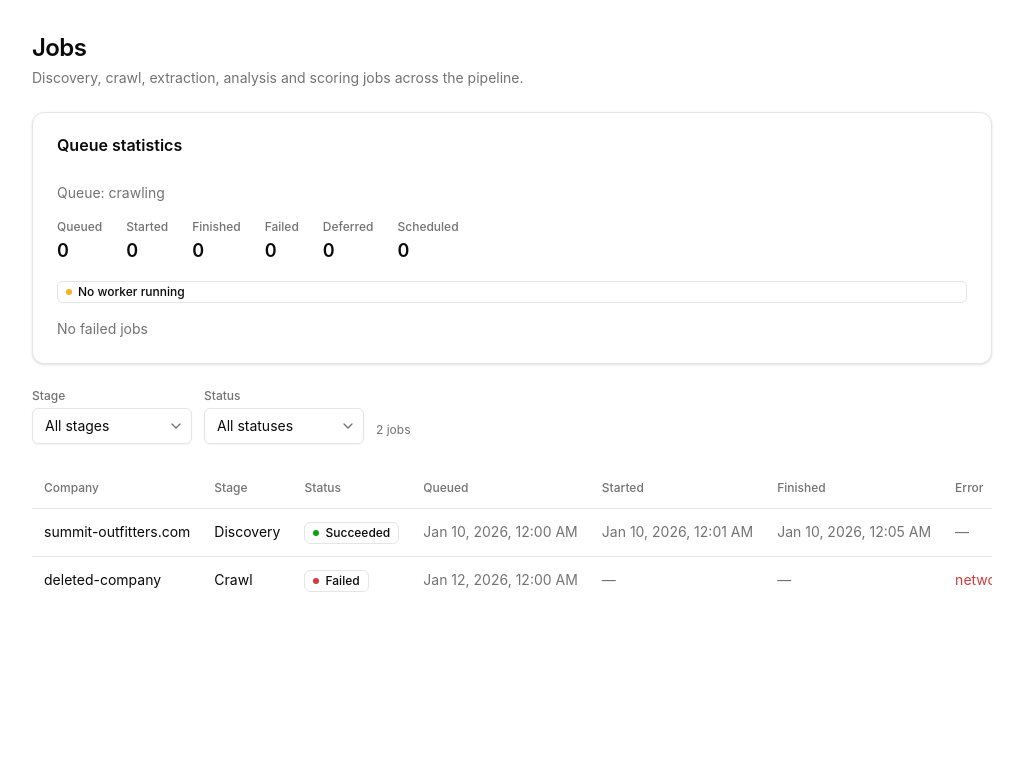
JobsPage › shows an empty result rather than an error for the analysis stage
Expected: the link "summit-outfitters.com" is shown, [44,523,190,540]
Step 1. Select "Analysis" in the dropdown labelled "Stage" → x=112, y=426, box [32,408,192,444]
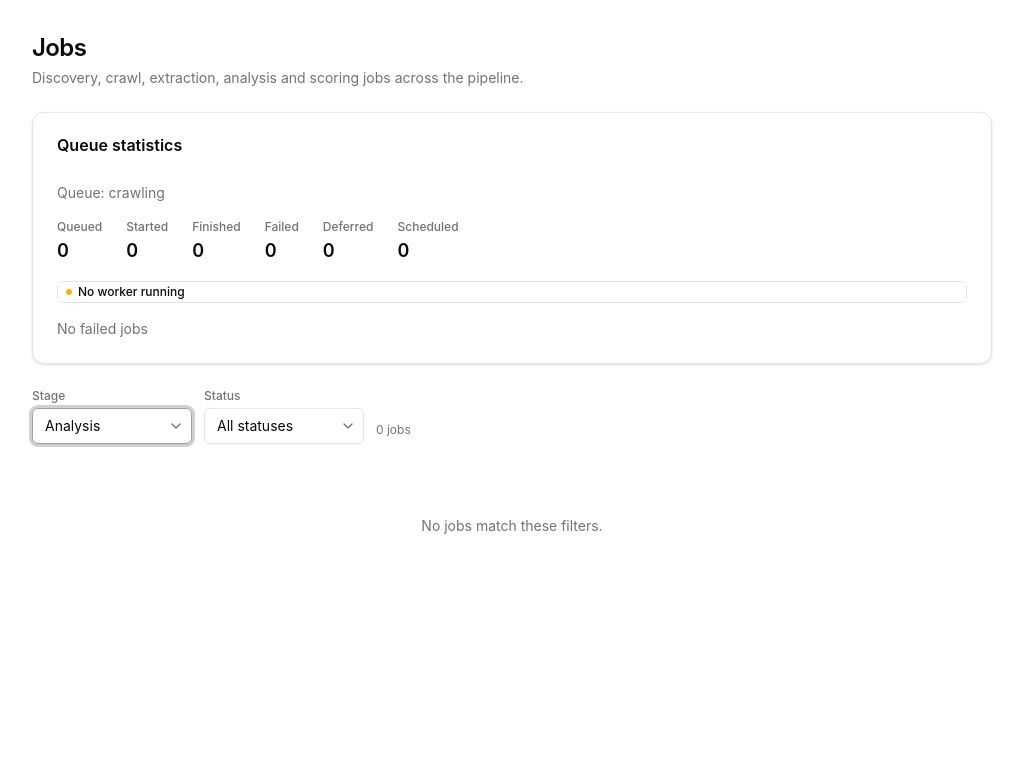
Result: the text "No jobs match these filters." is shown at [421,517,603,534]
